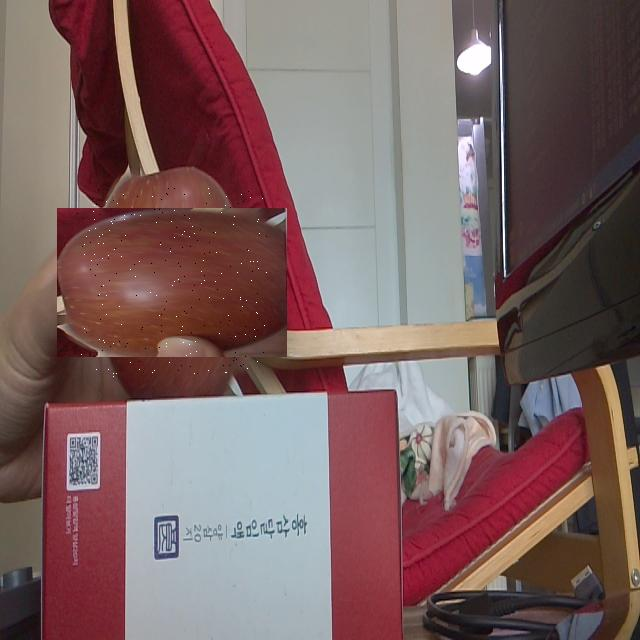apple: (77, 187, 267, 377)
